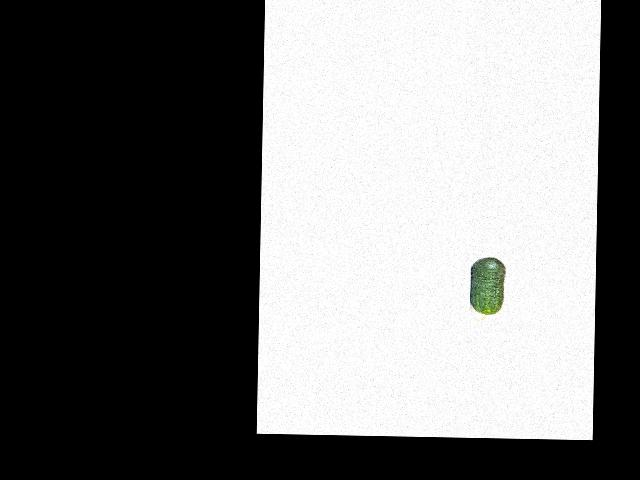cucumber: (469, 257, 506, 322)
